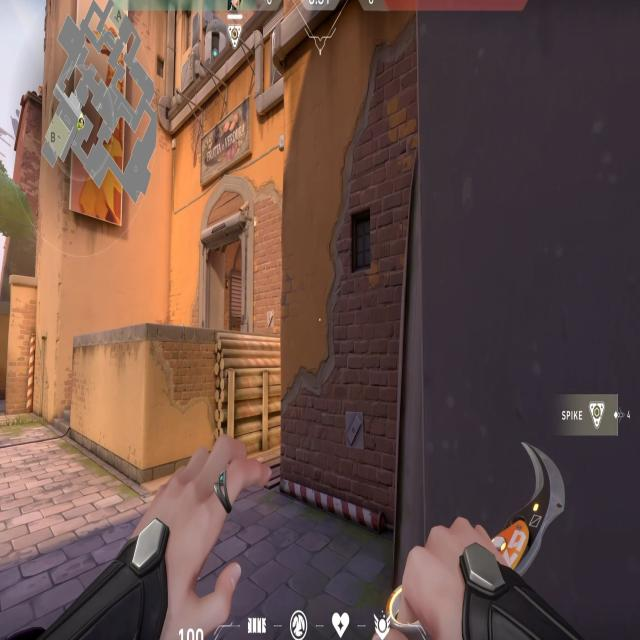B_Cubby: (144, 320, 295, 497)
